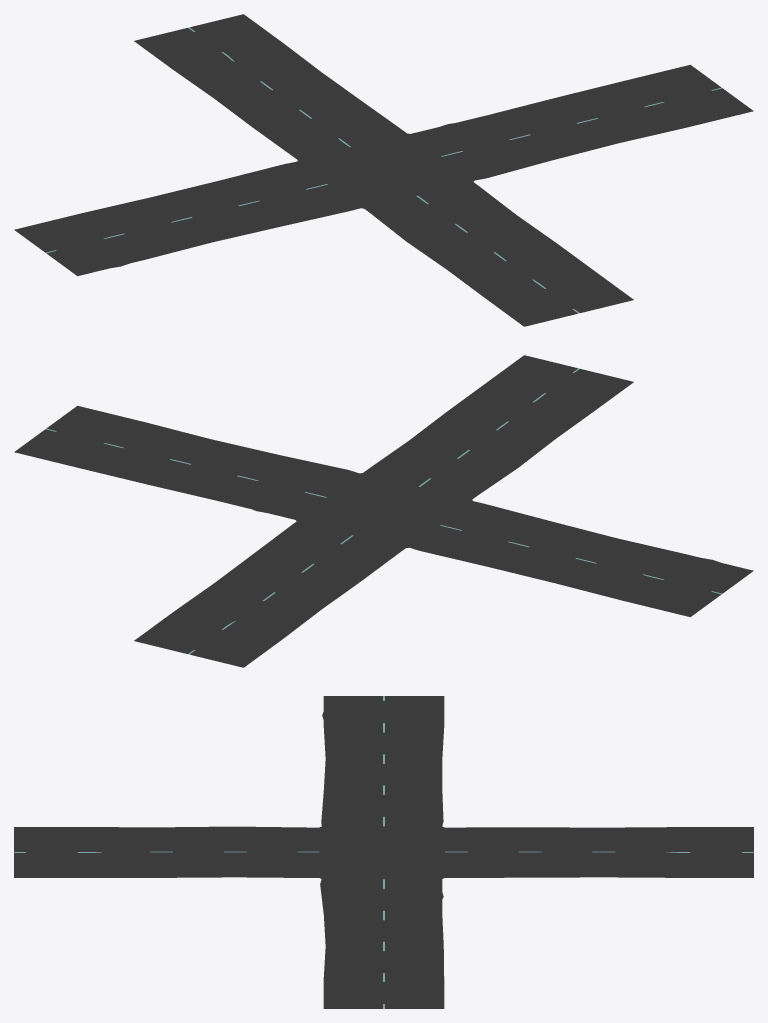
The model's file is model_road_crossroad_1_.fbx.
The picture shows the model from 3 angles, top to bottom: view 1: azimuth 30°, elevation 25°; view 2: azimuth 150°, elevation 25°; view 3: azimuth 270°, elevation 25°; orthographic projection. The views are drawn at different scales.
Visible parts, largest first — view 1: model_road_dirt_crossroad_01.001; view 2: model_road_dirt_crossroad_01.001; view 3: model_road_dirt_crossroad_01.001.
Part boxes in pixels (x1,y1,x2,y2): model_road_dirt_crossroad_01.001: (14,14,753,326); model_road_dirt_crossroad_01.001: (14,355,753,667); model_road_dirt_crossroad_01.001: (14,696,753,1008).
Bounding box in the file's own units: 0.6161 × 0.6161 × 1e-07.
